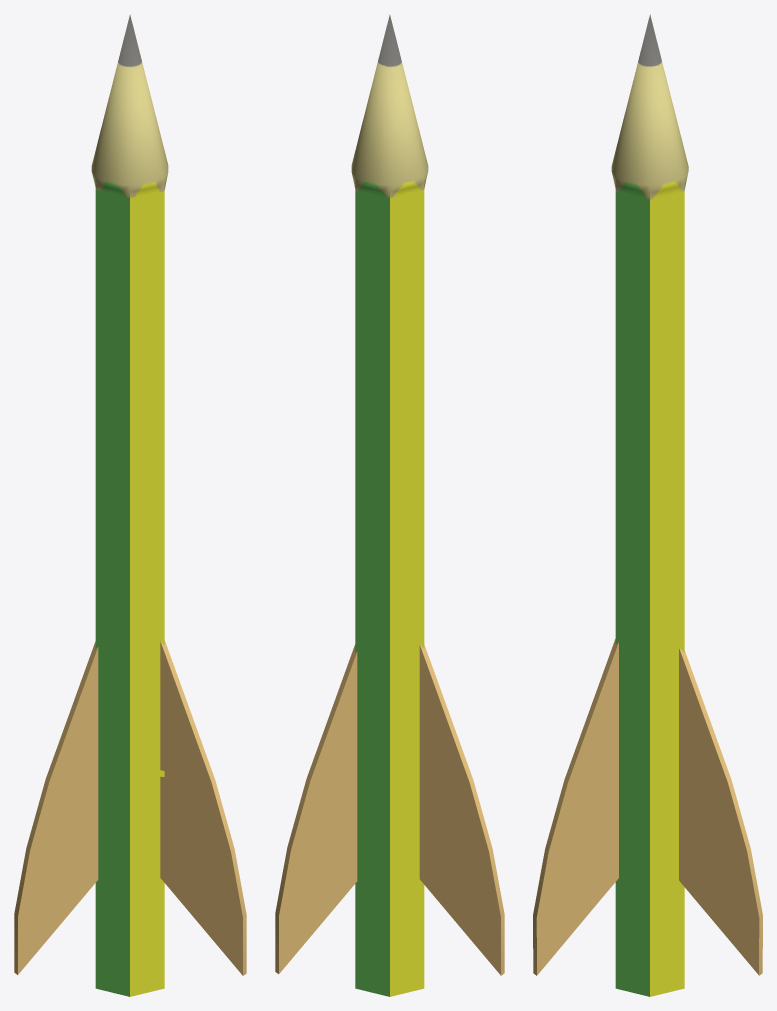
File: pencilarrow.fbx
3 views of the same model, side by side, from view 1: azimuth 30°, elevation 25°; view 2: azimuth 150°, elevation 25°; view 3: azimuth 270°, elevation 25° (orthographic).
Visible parts, largest first — view 1: pCone3; view 2: pCone3; view 3: pCone3.
Part boxes in pixels (bbox=[...]): pCone3: bbox=[14, 14, 246, 996]; pCone3: bbox=[275, 14, 504, 996]; pCone3: bbox=[533, 14, 762, 996].
Bounding box in the file's own units: 5.04 × 26.81 × 5.78.
